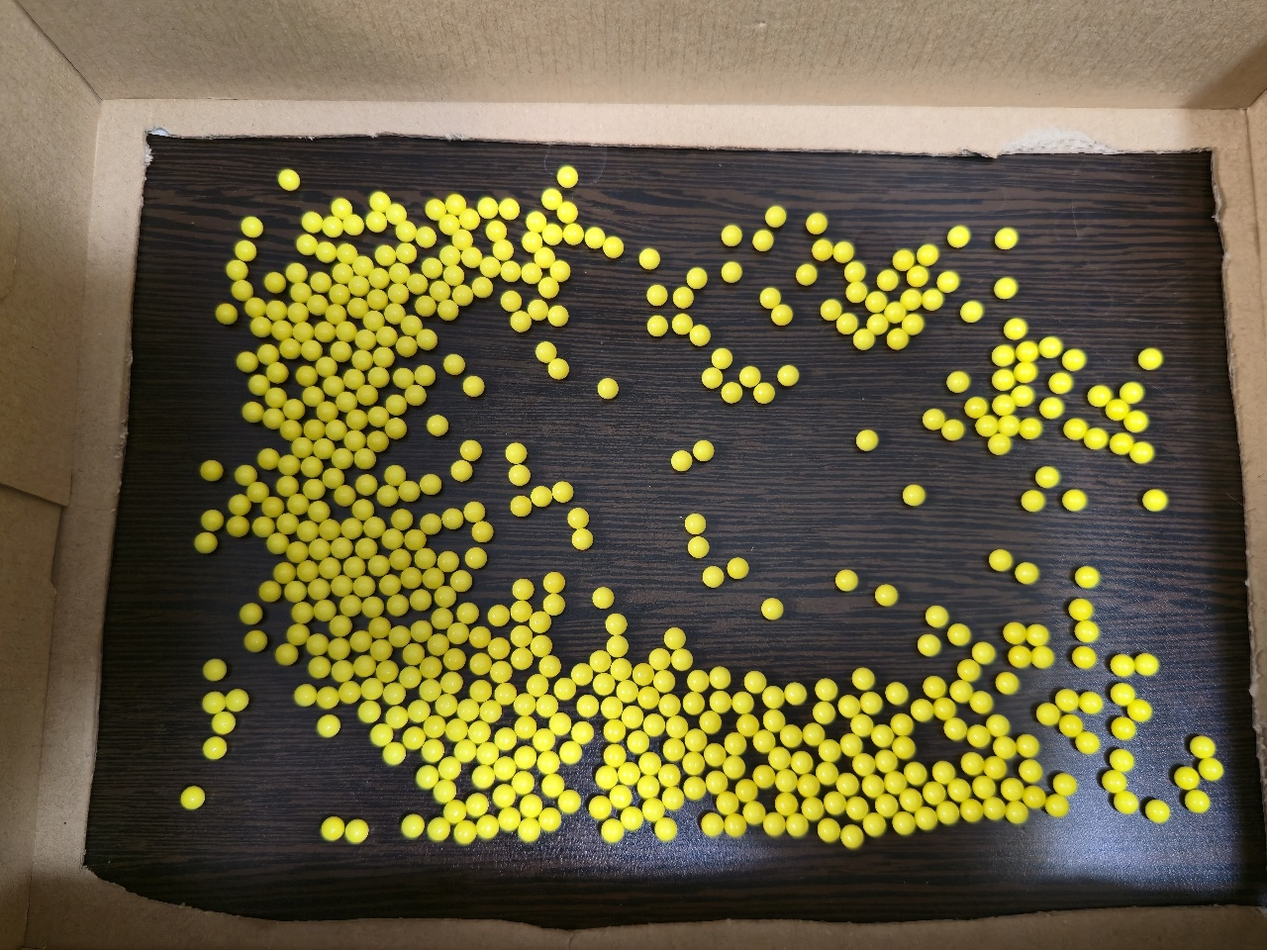yellow_bead: (606, 823, 619, 838), (523, 824, 536, 837), (517, 776, 530, 789), (218, 716, 231, 729), (554, 717, 566, 731), (615, 790, 626, 805), (350, 825, 362, 838), (407, 819, 419, 832), (471, 799, 483, 812), (498, 790, 510, 803), (477, 771, 489, 784), (520, 751, 532, 764), (564, 746, 576, 759), (459, 745, 471, 758), (537, 733, 549, 746), (576, 726, 588, 739), (965, 306, 978, 318), (1000, 282, 1013, 294), (433, 822, 444, 836), (422, 770, 433, 784), (499, 762, 510, 776), (660, 824, 672, 836), (547, 781, 559, 793), (443, 762, 455, 774), (482, 747, 494, 759), (388, 747, 400, 759), (473, 726, 485, 738), (413, 705, 425, 717), (582, 700, 594, 712), (232, 695, 244, 707), (388, 688, 400, 700), (601, 772, 612, 785), (376, 728, 387, 741), (930, 611, 943, 622), (1000, 233, 1013, 244), (626, 814, 638, 825), (439, 786, 450, 798), (408, 732, 419, 744), (363, 706, 375, 717), (843, 700, 854, 712), (541, 700, 552, 712), (790, 688, 801, 700), (576, 669, 588, 680), (977, 647, 988, 659), (840, 575, 852, 586), (693, 541, 704, 553), (908, 490, 920, 501), (942, 276, 954, 287), (882, 274, 894, 285), (482, 202, 493, 214), (283, 174, 295, 185), (767, 691, 777, 704), (952, 231, 965, 241), (482, 823, 493, 834), (707, 821, 718, 832), (504, 815, 515, 826), (391, 712, 402, 723), (462, 704, 473, 715), (669, 633, 680, 644), (767, 604, 778, 615), (881, 590, 892, 601), (708, 571, 719, 582), (732, 563, 743, 574), (577, 533, 588, 544), (676, 455, 687, 466), (1127, 387, 1138, 398), (485, 261, 496, 272), (246, 222, 257, 233), (770, 211, 781, 222), (525, 802, 537, 812), (642, 783, 654, 793), (542, 759, 554, 769), (648, 719, 658, 731), (440, 700, 450, 712), (519, 699, 529, 711), (323, 692, 333, 704), (425, 685, 435, 697), (367, 683, 377, 695), (532, 679, 542, 691), (749, 676, 759, 688), (857, 673, 867, 685), (715, 672, 725, 684), (612, 640, 622, 652), (923, 639, 933, 651), (611, 618, 621, 630), (870, 296, 882, 306), (401, 225, 411, 237), (391, 209, 401, 221), (504, 203, 514, 215), (547, 193, 557, 205), (633, 735, 641, 749), (1040, 471, 1054, 479), (1009, 323, 1023, 331), (563, 798, 574, 808), (485, 707, 496, 717), (606, 702, 616, 713), (208, 697, 218, 708), (300, 690, 310, 701), (500, 689, 510, 700), (598, 679, 608, 690), (544, 661, 554, 672), (677, 655, 687, 666), (953, 629, 963, 640), (994, 555, 1004, 566), (470, 553, 481, 563), (690, 519, 701, 529), (514, 470, 524, 481), (861, 434, 871, 445), (758, 388, 769, 398), (603, 383, 613, 394), (952, 376, 962, 387), (744, 371, 754, 382), (783, 370, 794, 380), (717, 353, 727, 364), (858, 334, 869, 344), (908, 319, 918, 330), (841, 318, 852, 328), (506, 296, 516, 307), (928, 294, 938, 305), (678, 292, 688, 303), (692, 272, 702, 283), (444, 250, 454, 261), (380, 250, 390, 261), (498, 244, 508, 255), (608, 241, 618, 252), (328, 222, 338, 233), (371, 217, 382, 227), (307, 217, 317, 228), (337, 203, 347, 214), (562, 171, 572, 182), (451, 724, 460, 736), (324, 719, 336, 728), (622, 686, 631, 698), (559, 683, 568, 695), (446, 677, 455, 689), (495, 666, 504, 678), (624, 771, 634, 781), (818, 708, 828, 718), (210, 665, 220, 675), (425, 479, 435, 489), (698, 445, 708, 455), (468, 381, 478, 391), (707, 373, 717, 383), (540, 346, 550, 356), (652, 321, 662, 331), (872, 320, 882, 330), (677, 319, 687, 329), (553, 311, 563, 321), (652, 290, 662, 300), (457, 290, 467, 300), (477, 282, 487, 292), (427, 263, 437, 273), (644, 253, 654, 263), (466, 252, 476, 262), (839, 246, 849, 256), (527, 237, 537, 247), (758, 235, 768, 245), (590, 232, 600, 242), (568, 229, 578, 239), (547, 229, 557, 239), (348, 220, 358, 230), (667, 795, 676, 806), (692, 675, 701, 686), (405, 672, 414, 683), (337, 666, 346, 677), (455, 576, 466, 585), (536, 491, 545, 502), (410, 390, 421, 399), (448, 270, 457, 281), (527, 267, 536, 278), (727, 266, 736, 277), (555, 265, 564, 276), (491, 226, 500, 237), (532, 216, 541, 227), (562, 206, 571, 217), (375, 197, 386, 206), (1143, 353, 1157, 360), (627, 711, 635, 723), (664, 700, 672, 712), (867, 698, 875, 710), (715, 696, 723, 708), (927, 414, 939, 422), (1044, 341, 1057, 348), (768, 821, 777, 831), (647, 807, 657, 816), (916, 707, 926, 716), (892, 690, 901, 700), (463, 608, 472, 618), (598, 593, 607, 603), (469, 507, 478, 517), (456, 465, 465, 475), (511, 448, 520, 458), (727, 387, 736, 397), (348, 374, 358, 383), (553, 363, 562, 373), (449, 359, 459, 368), (997, 350, 1006, 360), (422, 334, 432, 343), (695, 330, 704, 340), (516, 317, 526, 326), (390, 309, 399, 319), (765, 293, 775, 302), (543, 282, 552, 292), (412, 279, 422, 288), (316, 277, 325, 287), (394, 268, 404, 277), (291, 268, 301, 277), (506, 266, 515, 276), (401, 248, 411, 257), (321, 246, 331, 255), (421, 232, 430, 242), (727, 230, 736, 240), (444, 220, 453, 230), (464, 214, 473, 224), (846, 832, 854, 843), (689, 783, 697, 794), (644, 759, 652, 770), (668, 745, 676, 756), (856, 720, 864, 731), (595, 656, 603, 667), (517, 653, 525, 664), (516, 630, 524, 641), (851, 287, 862, 295), (849, 266, 860, 274), (431, 204, 439, 215), (690, 734, 697, 746), (821, 684, 828, 696), (616, 663, 623, 675), (654, 653, 661, 665), (518, 585, 527, 594), (348, 562, 357, 571), (399, 373, 408, 382), (533, 305, 542, 314), (435, 286, 444, 295), (338, 268, 347, 277), (232, 265, 241, 274), (241, 245, 250, 254), (450, 199, 459, 208), (459, 829, 467, 839), (847, 740, 857, 748), (429, 724, 439, 732), (994, 719, 1002, 729), (440, 591, 450, 599), (442, 556, 452, 564), (573, 513, 581, 523), (557, 487, 565, 497), (826, 305, 834, 315), (442, 305, 452, 313), (393, 289, 403, 297), (539, 252, 549, 260), (342, 248, 352, 256), (302, 239, 310, 249), (711, 778, 718, 789), (688, 698, 695, 709), (548, 600, 555, 611), (338, 542, 345, 553), (327, 826, 336, 834), (899, 820, 907, 829), (449, 809, 457, 818), (609, 751, 617, 760), (878, 730, 884, 742), (949, 723, 957, 732), (520, 722, 528, 731), (738, 697, 744, 709), (452, 627, 461, 635), (1021, 567, 1029, 576), (447, 514, 455, 523), (1026, 498, 1035, 506), (433, 421, 442, 429), (420, 370, 429, 378), (421, 301, 429, 310), (907, 294, 916, 302), (802, 269, 811, 277), (358, 261, 367, 269), (869, 821, 876, 831), (728, 762, 735, 772), (688, 759, 695, 769), (500, 732, 507, 742), (671, 722, 678, 732), (516, 607, 523, 617), (416, 595, 426, 602), (359, 582, 369, 589), (818, 244, 828, 251), (792, 820, 798, 831), (759, 736, 765, 747), (769, 715, 775, 726), (536, 640, 542, 651), (427, 744, 435, 752), (956, 687, 964, 695), (947, 425, 955, 433), (379, 352, 387, 360), (360, 334, 368, 342), (374, 273, 382, 281), (544, 817, 551, 826), (922, 815, 929, 824), (748, 810, 755, 819), (663, 772, 670, 781), (938, 766, 945, 775), (859, 761, 866, 770), (774, 755, 781, 764), (475, 687, 482, 696), (535, 617, 542, 626), (493, 611, 502, 618), (426, 520, 435, 527), (516, 502, 523, 511), (404, 486, 413, 493), (390, 470, 399, 477), (296, 288, 305, 295), (457, 235, 466, 242), (493, 643, 499, 653), (416, 626, 426, 632), (395, 600, 401, 610), (548, 578, 554, 588), (321, 362, 331, 368), (406, 321, 416, 327), (812, 218, 822, 224), (881, 803, 888, 811), (722, 801, 729, 809), (824, 748, 831, 756), (785, 732, 792, 740), (433, 639, 440, 647), (313, 639, 321, 646), (394, 631, 402, 638), (1084, 630, 1092, 637), (322, 606, 330, 613), (347, 602, 354, 610), (337, 581, 345, 588), (373, 561, 381, 568), (369, 522, 377, 529), (310, 484, 318, 491), (338, 453, 346, 460), (391, 400, 399, 407), (330, 381, 338, 388), (369, 316, 377, 323), (594, 804, 603, 810), (830, 800, 836, 809), (797, 759, 803, 768), (730, 741, 736, 750), (810, 728, 816, 737), (437, 614, 446, 620), (346, 523, 355, 529), (993, 440, 1002, 446), (341, 397, 350, 403), (776, 310, 785, 316), (313, 300, 319, 309), (924, 249, 933, 255), (898, 254, 908, 259), (823, 828, 830, 835), (851, 805, 858, 812), (868, 784, 875, 791), (314, 662, 321, 669), (409, 648, 416, 655), (201, 537, 208, 544), (1052, 403, 1059, 410), (309, 392, 316, 399), (357, 355, 364, 362), (382, 332, 389, 339), (341, 327, 348, 334), (705, 717, 711, 725), (347, 687, 353, 695), (362, 660, 368, 668), (335, 643, 341, 651), (367, 602, 375, 608), (316, 584, 322, 592), (387, 534, 395, 540), (1148, 500, 1156, 506), (465, 445, 473, 451), (349, 435, 357, 441), (293, 308, 301, 314), (890, 307, 898, 313), (359, 453, 368, 458), (998, 374, 1007, 379), (336, 346, 345, 351), (1069, 354, 1080, 358), (841, 781, 848, 787), (709, 752, 715, 759), (475, 659, 481, 666), (336, 620, 343, 626), (361, 543, 368, 549), (317, 543, 323, 550), (273, 538, 280, 544), (1073, 500, 1080, 506), (1141, 447, 1148, 453), (254, 380, 260, 387), (263, 349, 269, 356), (239, 285, 246, 291), (944, 810, 949, 818), (662, 677, 666, 687), (355, 637, 363, 642), (292, 587, 300, 592), (477, 527, 485, 532), (382, 491, 390, 496), (373, 412, 381, 417), (374, 372, 382, 377), (307, 345, 315, 350), (354, 281, 362, 286), (782, 778, 788, 784), (883, 758, 887, 767), (328, 564, 334, 570), (359, 505, 365, 511), (330, 473, 336, 479), (248, 408, 254, 414), (823, 769, 828, 776), (421, 553, 428, 558), (314, 507, 321, 512), (320, 443, 327, 448), (298, 442, 305, 447), (299, 328, 306, 333), (271, 306, 276, 313), (609, 728, 613, 736), (391, 424, 399, 428), (402, 341, 410, 345), (906, 798, 912, 803), (912, 770, 917, 776), (979, 697, 984, 703), (1004, 683, 1010, 688), (378, 645, 383, 651), (475, 631, 481, 636), (246, 611, 252, 616), (305, 525, 310, 531), (362, 480, 368, 485), (307, 462, 313, 467), (285, 460, 291, 465), (1003, 400, 1008, 406), (1021, 390, 1027, 395), (243, 357, 249, 362), (895, 333, 900, 339), (257, 322, 263, 327), (917, 271, 923, 276), (1121, 759, 1125, 766), (289, 405, 296, 409), (272, 368, 279, 372), (321, 327, 328, 331), (892, 781, 897, 786), (1002, 744, 1007, 749), (300, 609, 305, 614), (387, 581, 392, 586), (285, 519, 290, 524), (243, 470, 248, 475), (955, 789, 961, 793), (285, 481, 289, 487), (331, 427, 339, 430), (269, 414, 275, 418), (271, 393, 277, 397), (363, 390, 369, 394), (271, 277, 277, 281), (374, 295, 381, 298), (731, 824, 735, 829), (930, 792, 935, 796), (644, 695, 649, 699), (1035, 630, 1039, 635), (409, 574, 414, 578), (398, 555, 403, 559), (399, 516, 404, 520), (236, 500, 241, 504), (255, 487, 259, 492), (1008, 424, 1013, 428), (354, 303, 359, 307), (336, 289, 341, 293), (808, 807, 814, 810), (285, 649, 288, 655), (983, 424, 989, 427), (332, 310, 338, 313), (1015, 811, 1019, 815), (981, 786, 985, 790), (970, 761, 974, 765), (899, 723, 903, 727), (1146, 664, 1150, 668), (1040, 656, 1044, 660), (991, 806, 996, 809), (1027, 769, 1032, 772), (411, 535, 416, 538), (261, 522, 264, 527), (1094, 391, 1099, 394), (305, 371, 310, 374), (279, 326, 284, 329), (251, 303, 256, 306), (1010, 788, 1014, 791), (1063, 784, 1067, 787), (375, 436, 379, 439), (354, 416, 358, 419), (325, 407, 329, 410), (296, 501, 301, 503), (288, 426, 293, 428), (806, 784, 809, 787), (761, 775, 764, 778), (428, 754, 431, 757), (209, 744, 212, 747), (385, 668, 388, 671), (1121, 664, 1124, 667), (307, 567, 310, 570), (976, 734, 980, 736), (298, 630, 300, 634), (265, 454, 269, 456), (198, 796, 200, 799), (1026, 745, 1029, 747), (745, 724, 748, 726), (1046, 712, 1049, 714), (1090, 702, 1093, 704), (928, 686, 934, 687), (453, 655, 455, 658), (343, 493, 346, 495), (313, 426, 316, 428), (224, 310, 226, 313), (288, 345, 293, 346), (1157, 809, 1159, 811), (743, 791, 745, 793), (437, 747, 439, 749), (430, 667, 432, 669), (433, 575, 435, 577), (329, 526, 331, 528), (210, 516, 212, 518), (1197, 801, 1200, 802), (1204, 746, 1207, 747), (254, 639, 256, 640), (379, 625, 380, 627), (270, 588, 271, 590), (1160, 811, 1161, 812), (1057, 807, 1058, 808), (208, 748, 209, 749), (1122, 695, 1123, 696), (970, 670, 971, 671), (431, 577, 432, 578), (297, 549, 298, 550), (1058, 382, 1059, 383), (1062, 381, 1063, 382)
